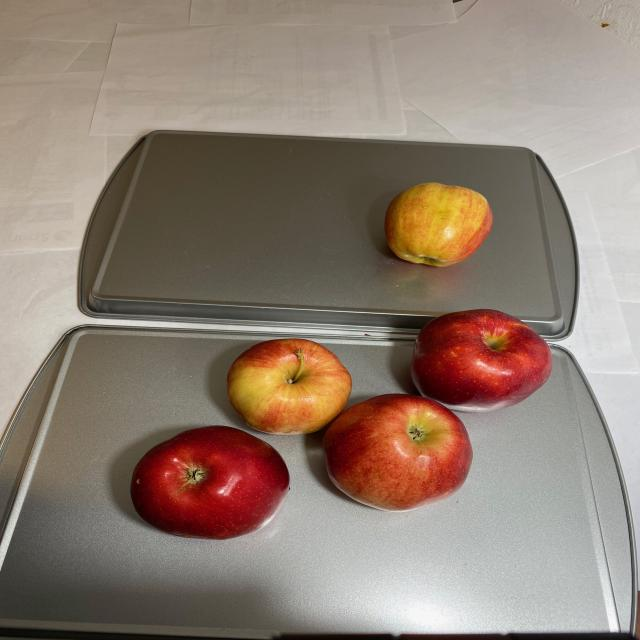apple: (124, 307, 550, 541), (381, 183, 496, 271)
